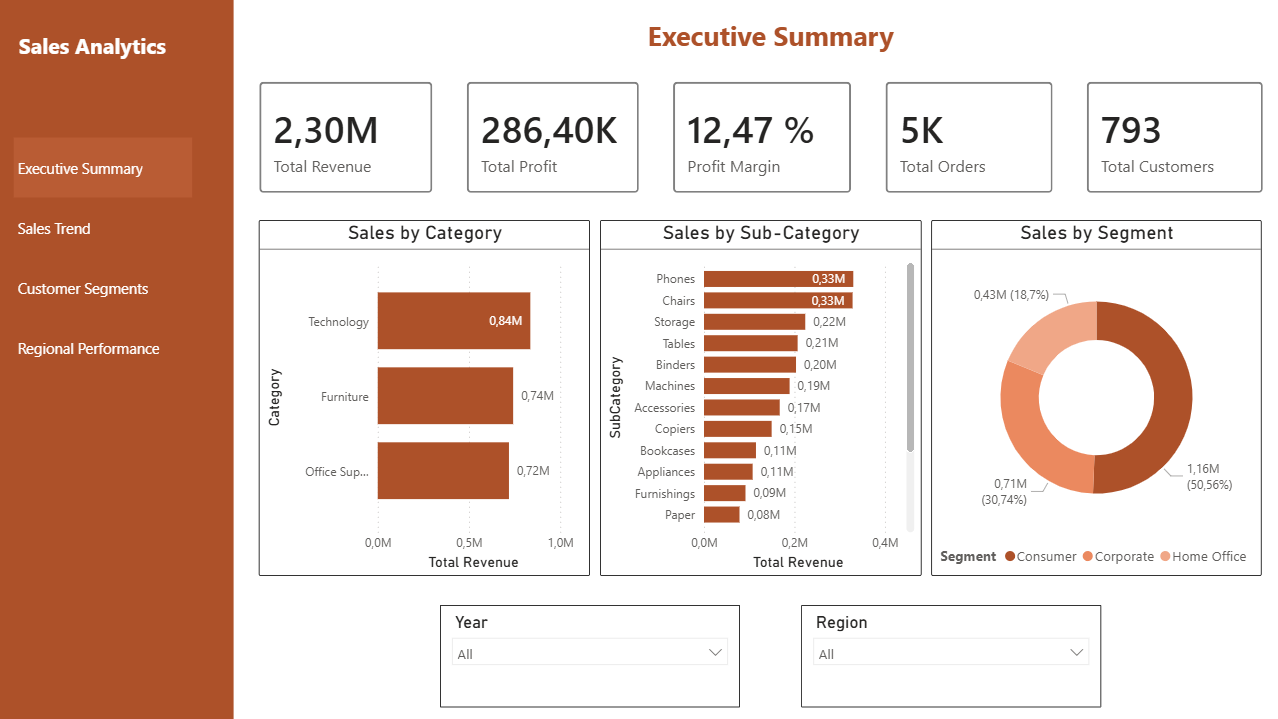

This screenshot's page, from the dashboard's own definition file:
{"tool":"powerbi","page":{"name":"Executive Summary","canvas":[1280,720],"ordinal":0},"visuals":[{"type":"shape","box":[0,0,233.8,720],"z":0},{"type":"cardVisual","title":"Total Revenue","fields":{"Data":["Superstore.Total Sales"]},"box":[242.5,65,207.5,145],"z":1000},{"type":"cardVisual","title":"Total Revenue","fields":{"Data":["Superstore.Total Profit"]},"box":[450,65,206.2,145],"z":2000},{"type":"cardVisual","title":"Total Revenue","fields":{"Data":["Superstore.Profit Margin"]},"box":[656.2,65,212.5,145],"z":3000},{"type":"cardVisual","title":"Total Revenue","fields":{"Data":["Superstore.Total Orders"]},"box":[868.8,65,201.2,145],"z":4000},{"type":"cardVisual","title":"Total Revenue","fields":{"Data":["Superstore.Total Customers"]},"box":[1070,65,210,145],"z":5000},{"type":"textbox","box":[615,12.5,311.2,52.5],"z":6000},{"type":"clusteredBarChart","title":"Sales by Category","fields":{"Category":["Superstore.Category"],"Y":["Superstore.Total Revenue"]},"box":[258.8,220,331.2,356.2],"z":7000},{"type":"clusteredBarChart","title":"Sales by Sub-Category","fields":{"Y":["Superstore.Total Revenue"],"Category":["Superstore.SubCategory"]},"box":[600,220,321.2,356.2],"z":8000},{"type":"donutChart","title":"Sales by Segment","fields":{"Category":["Superstore.Segment"],"Y":["Superstore.Total Revenue"]},"box":[931.2,220,330,356.2],"z":9000},{"type":"slicer","fields":{"Values":["DateTable.Year"]},"box":[440,605,300,102.5],"z":10000},{"type":"slicer","fields":{"Values":["Superstore.Region"]},"box":[801.2,605,300,102.5],"z":11000},{"type":"textbox","box":[13.8,26.2,202.5,38.8],"z":12000},{"type":"actionButton","box":[13.8,137.5,178.8,60],"z":13000},{"type":"actionButton","box":[13.8,197.5,178.8,60],"z":14000},{"type":"actionButton","box":[13.8,257.5,178.8,60],"z":15000},{"type":"actionButton","box":[13.8,317.5,178.8,60],"z":16000}]}

Visuals, with their boxes in screenshot pixels (x1, y1, x2, y2), scaled from the page's 1280x720 canvas onto the 1278x719 screenshot:
shape: 0:0:233:718
"Total Revenue" cardVisual: 242:65:449:210
"Total Revenue" cardVisual: 449:65:655:210
"Total Revenue" cardVisual: 655:65:867:210
"Total Revenue" cardVisual: 867:65:1068:210
"Total Revenue" cardVisual: 1068:65:1277:210
textbox: 614:12:925:65
"Sales by Category" clusteredBarChart: 258:220:589:575
"Sales by Sub-Category" clusteredBarChart: 599:220:920:575
"Sales by Segment" donutChart: 930:220:1259:575
slicer - DateTable.Year: 439:604:739:707
slicer - Superstore.Region: 800:604:1099:707
textbox: 14:26:216:65
actionButton: 14:137:192:197
actionButton: 14:197:192:257
actionButton: 14:257:192:317
actionButton: 14:317:192:377
